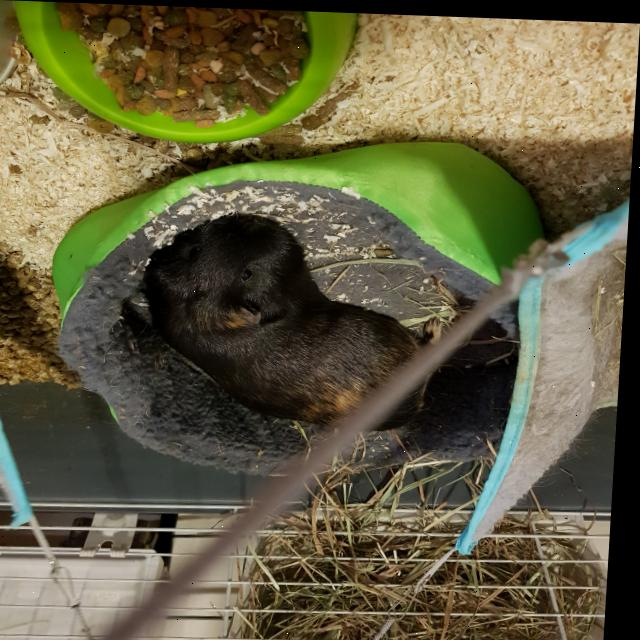guinea pig: (134, 207, 454, 431)
